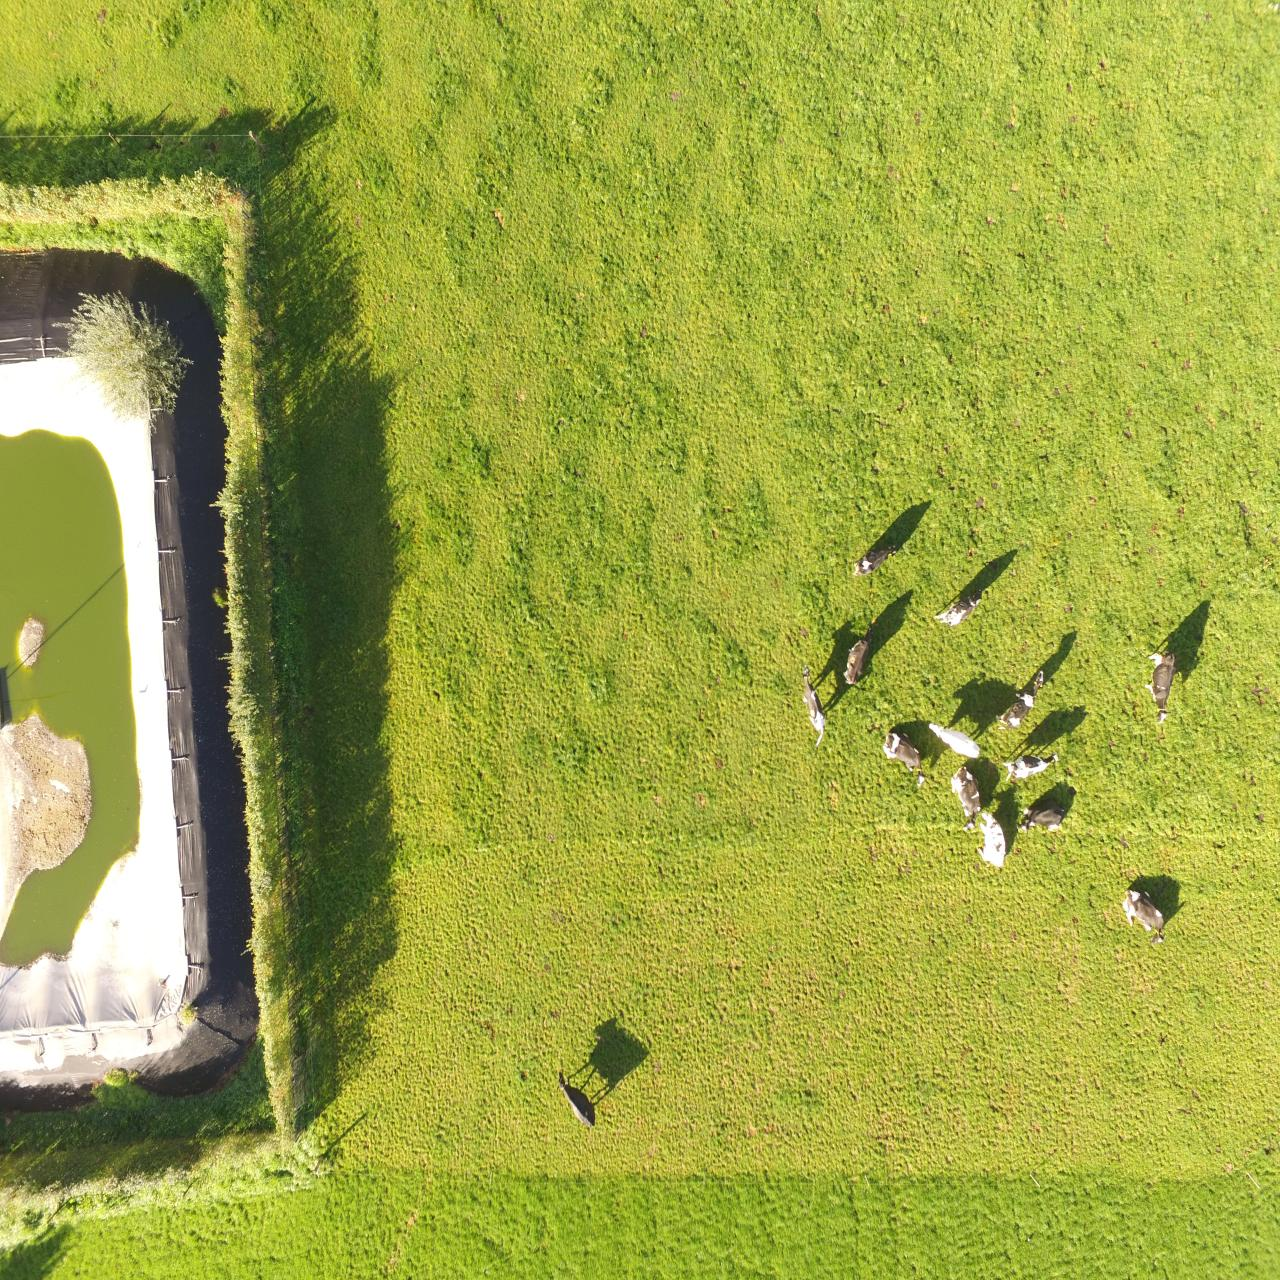cow: (996, 666, 1050, 734), (1119, 886, 1170, 944), (921, 716, 982, 762), (881, 727, 926, 789), (796, 665, 829, 747), (839, 624, 879, 685), (1000, 747, 1064, 783), (1145, 649, 1176, 726), (557, 1070, 595, 1128), (946, 765, 980, 830), (933, 586, 985, 628), (1019, 798, 1070, 833), (979, 812, 1009, 871), (850, 543, 898, 577)
